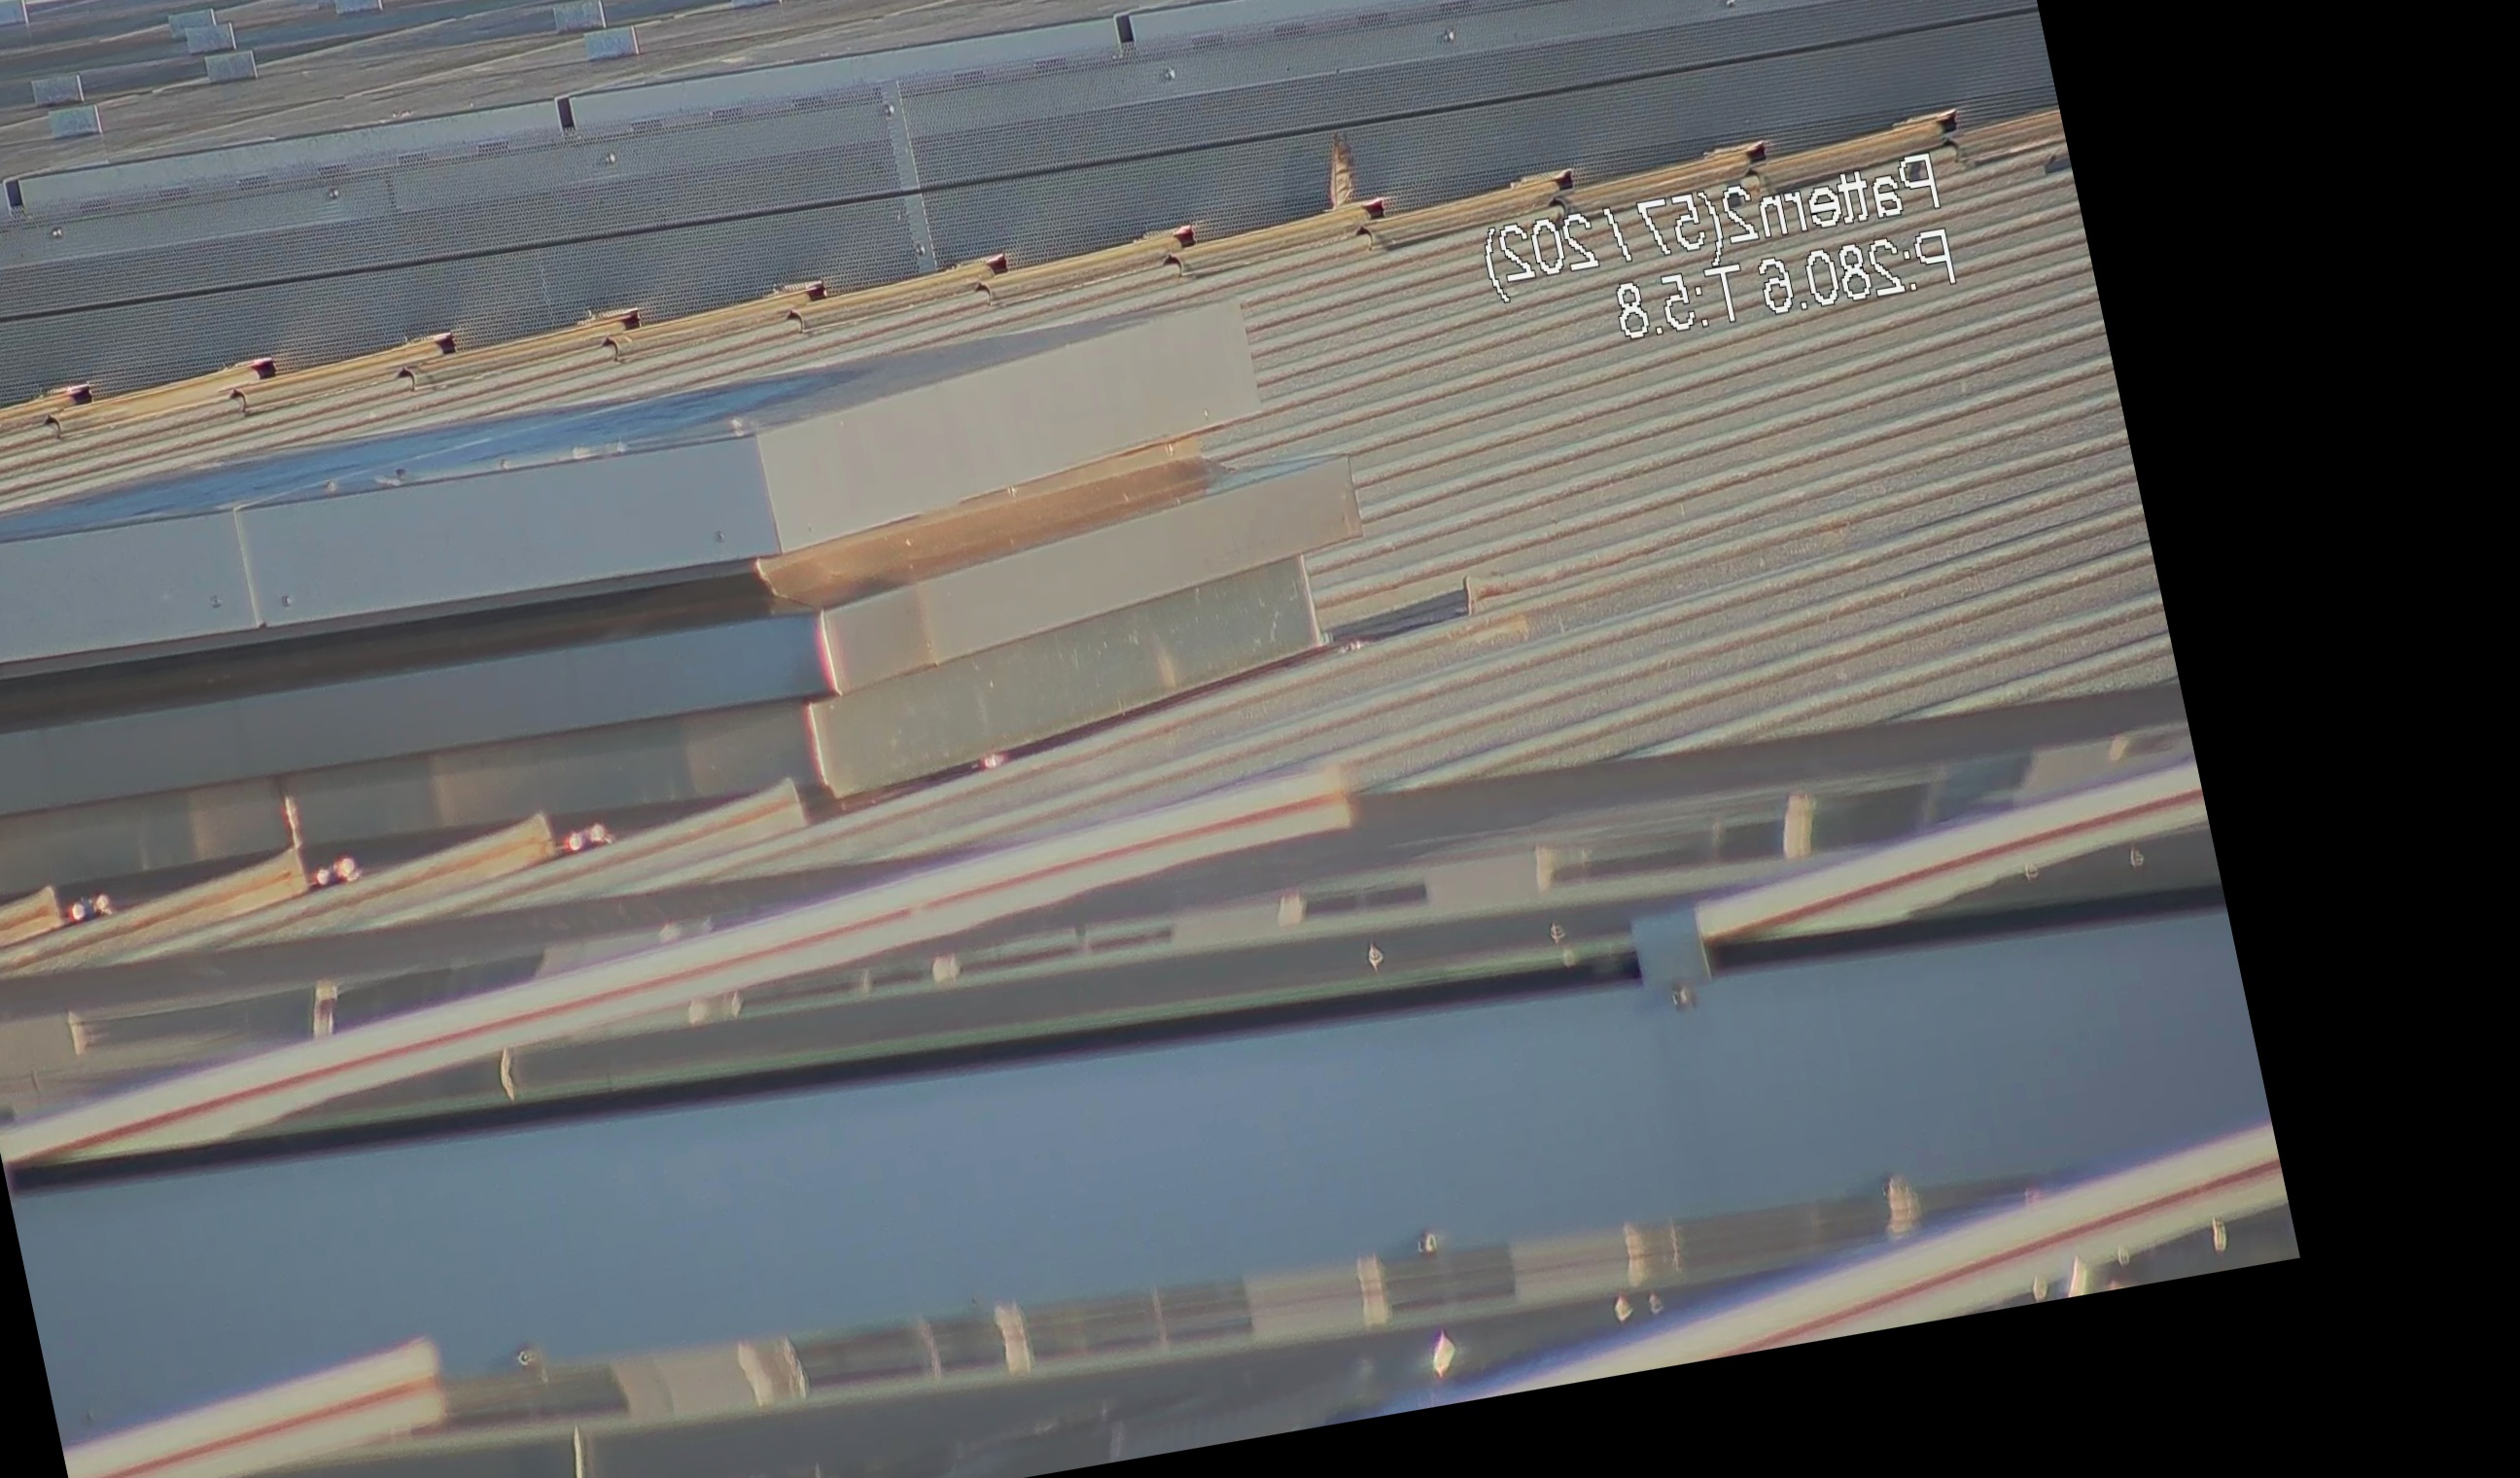Other: (1310, 109, 1386, 225)
